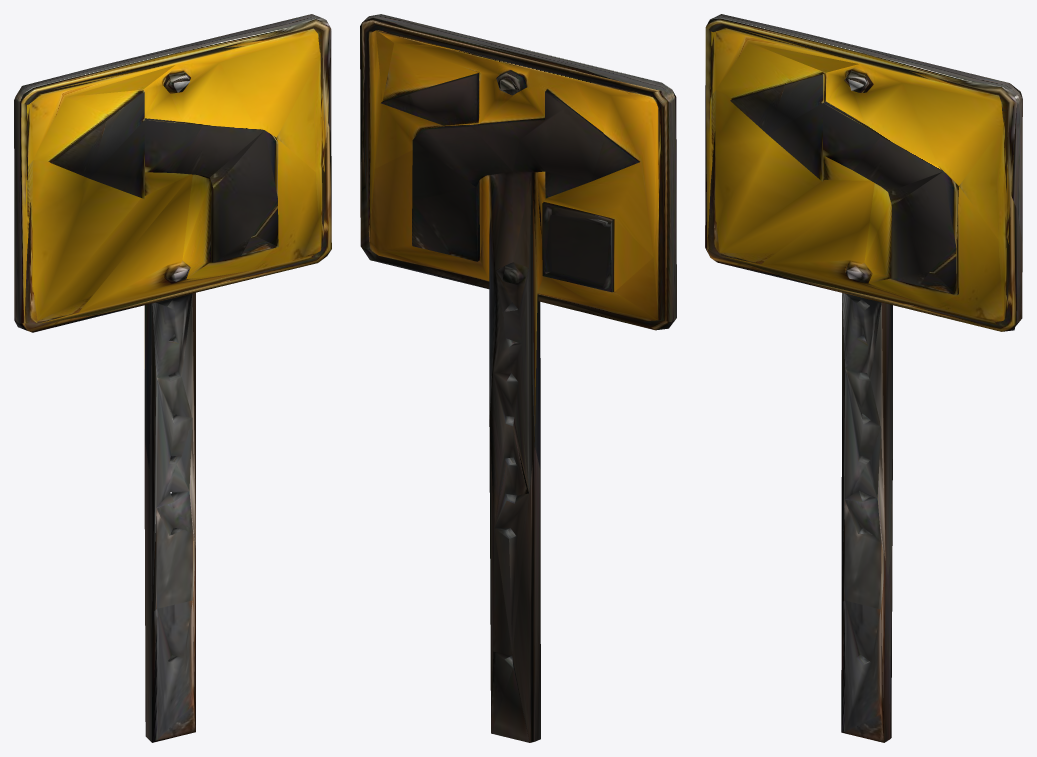
The model's file is sign.glb.
3 renders of one model, left to right at view 1: azimuth 30°, elevation 25°; view 2: azimuth 150°, elevation 25°; view 3: azimuth 330°, elevation 25°, orthographic.
Parts seen in each view (by area): view 1: TripoSign_Mesh; view 2: TripoSign_Mesh; view 3: TripoSign_Mesh.
Part boxes in pixels (x1,y1,x2,y2): TripoSign_Mesh: (14,14,331,742); TripoSign_Mesh: (360,14,676,742); TripoSign_Mesh: (705,14,1022,742).
Bounding box in the file's own units: 1 × 2.1 × 0.12.
1 material, 1 textured.
